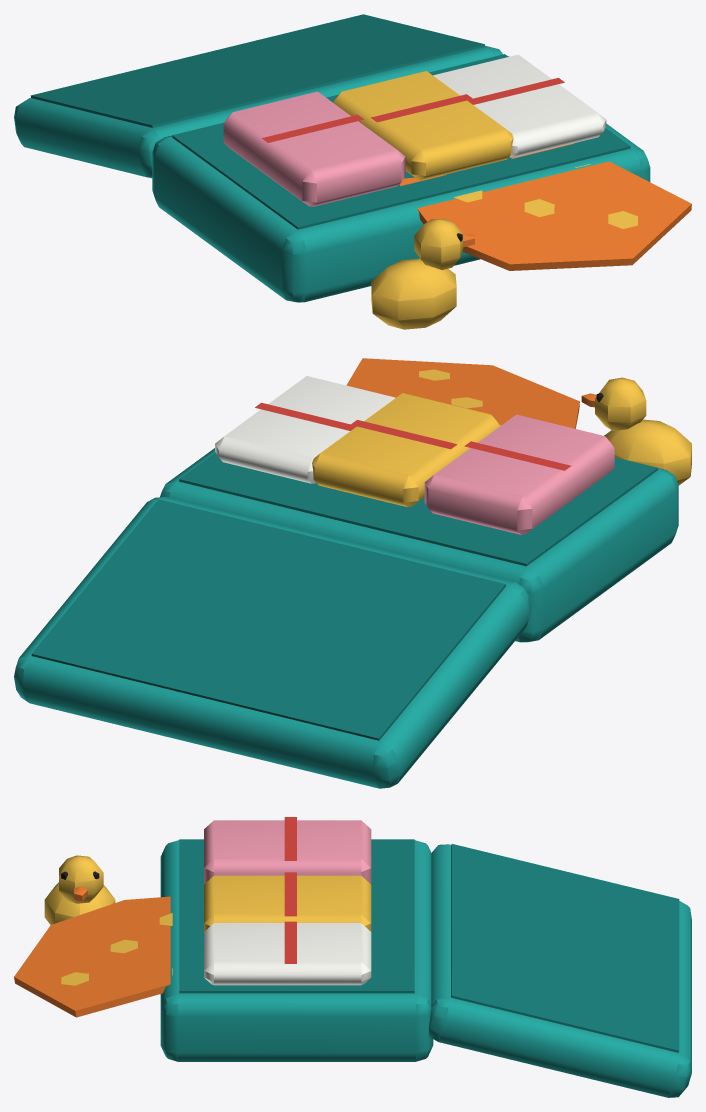
Rendered from MaletaAbierta.fbx.
The picture shows the model from 3 angles, top to bottom: view 1: azimuth 30°, elevation 25°; view 2: azimuth 150°, elevation 25°; view 3: azimuth 270°, elevation 25°; orthographic projection. The views are drawn at different scales.
Parts seen in each view (by area): view 1: MaletaAbierta; view 2: MaletaAbierta; view 3: MaletaAbierta.
Part boxes in pixels (x1,y1,x2,y2): MaletaAbierta: (14,14,691,329); MaletaAbierta: (14,358,691,788); MaletaAbierta: (14,817,691,1097).
Bounding box in the file's own units: 3.2 × 1.24 × 5.47.
1 material, 1 textured.
